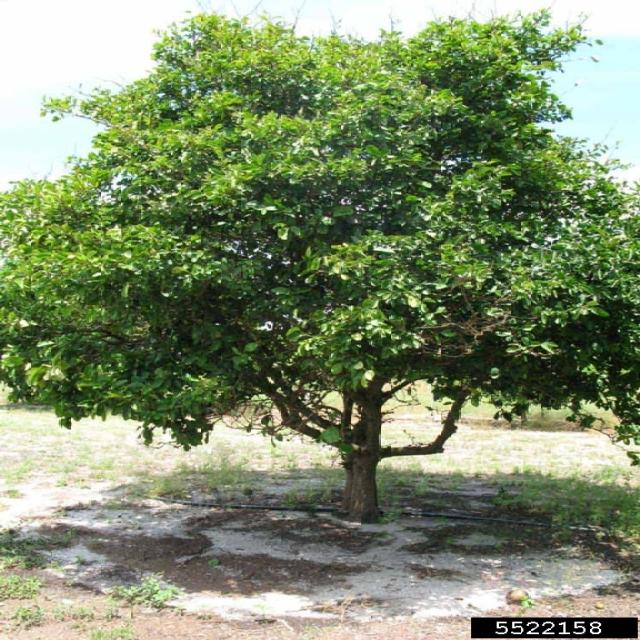Mango-Tree: (36, 28, 610, 521)
